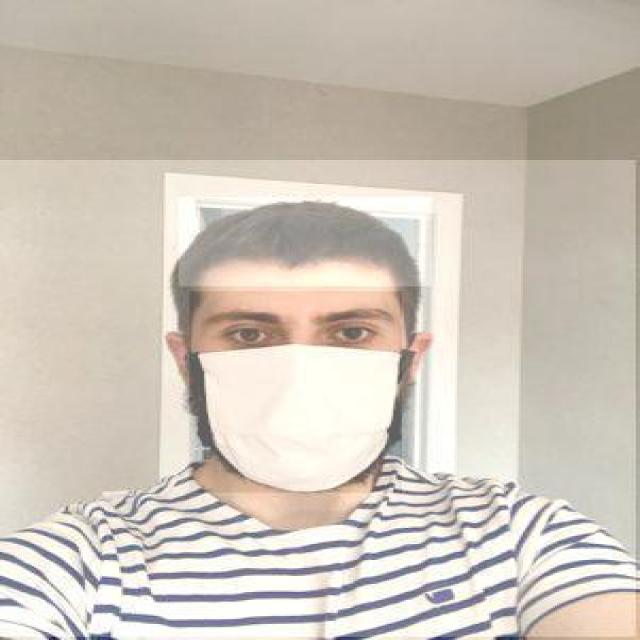face_mask: (189, 291, 402, 493)
head_nohelmet: (178, 197, 432, 286)
person: (0, 160, 638, 638)
